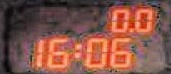-: (127, 24, 133, 33)
0: (83, 36, 105, 67), (133, 7, 150, 32), (110, 7, 126, 32)
1: (35, 36, 43, 67)
6: (47, 35, 67, 68), (110, 36, 131, 67)
X: (71, 40, 80, 59)
